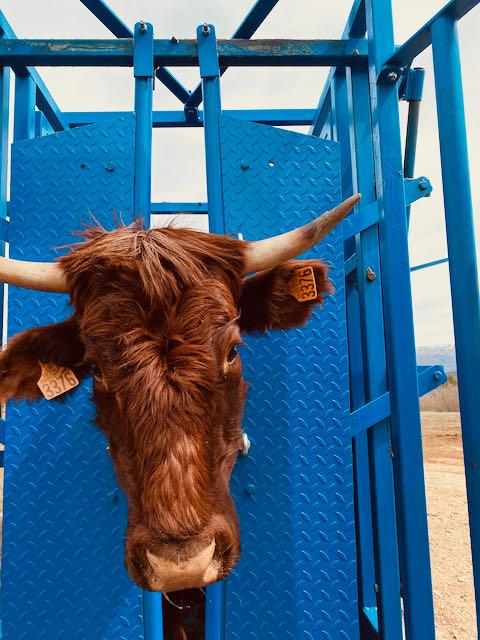muzzles: (117, 533, 245, 598)
